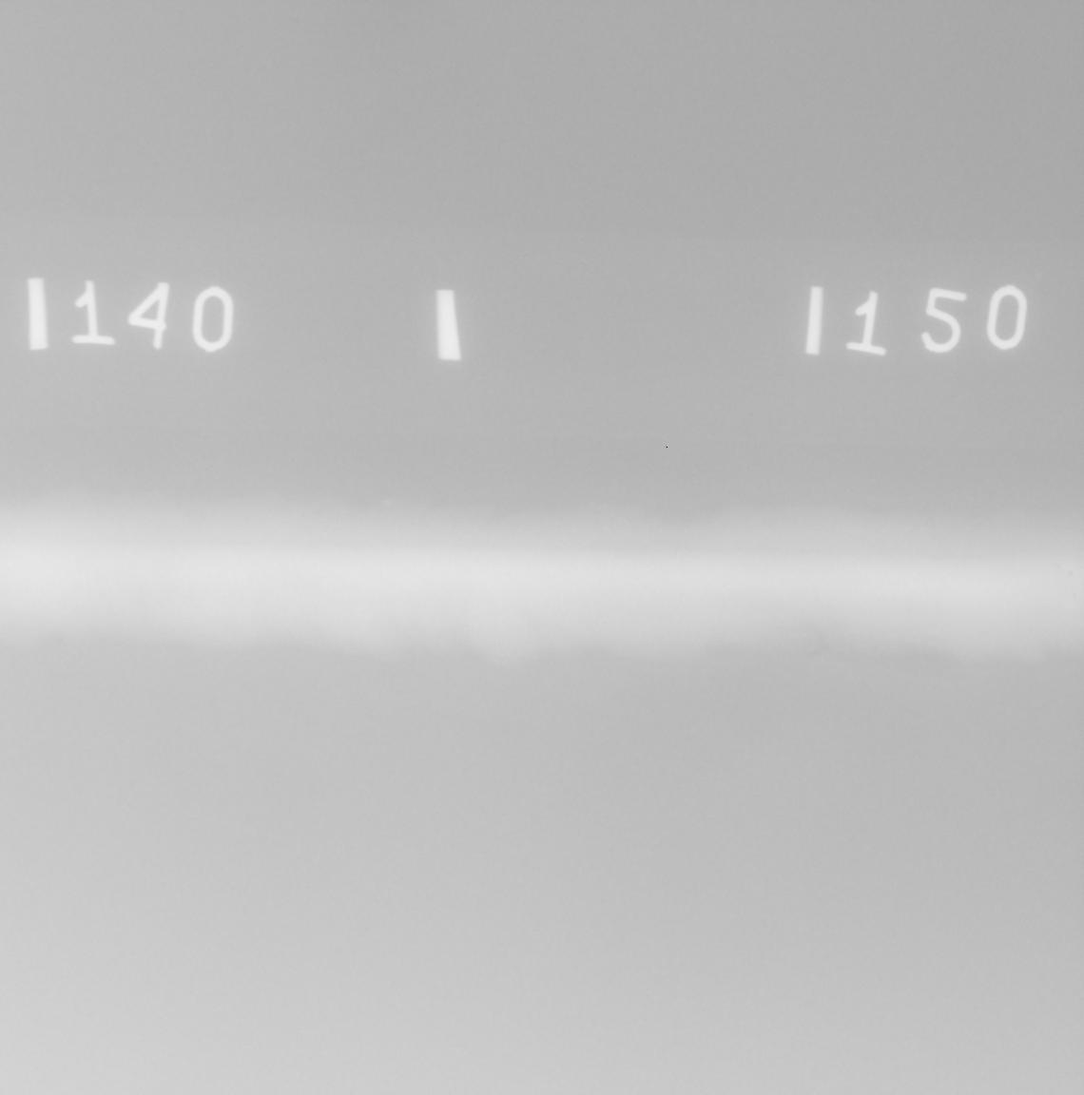Pore/Porosity: (1068, 572, 1072, 575), (315, 511, 319, 514), (1055, 565, 1059, 568)
